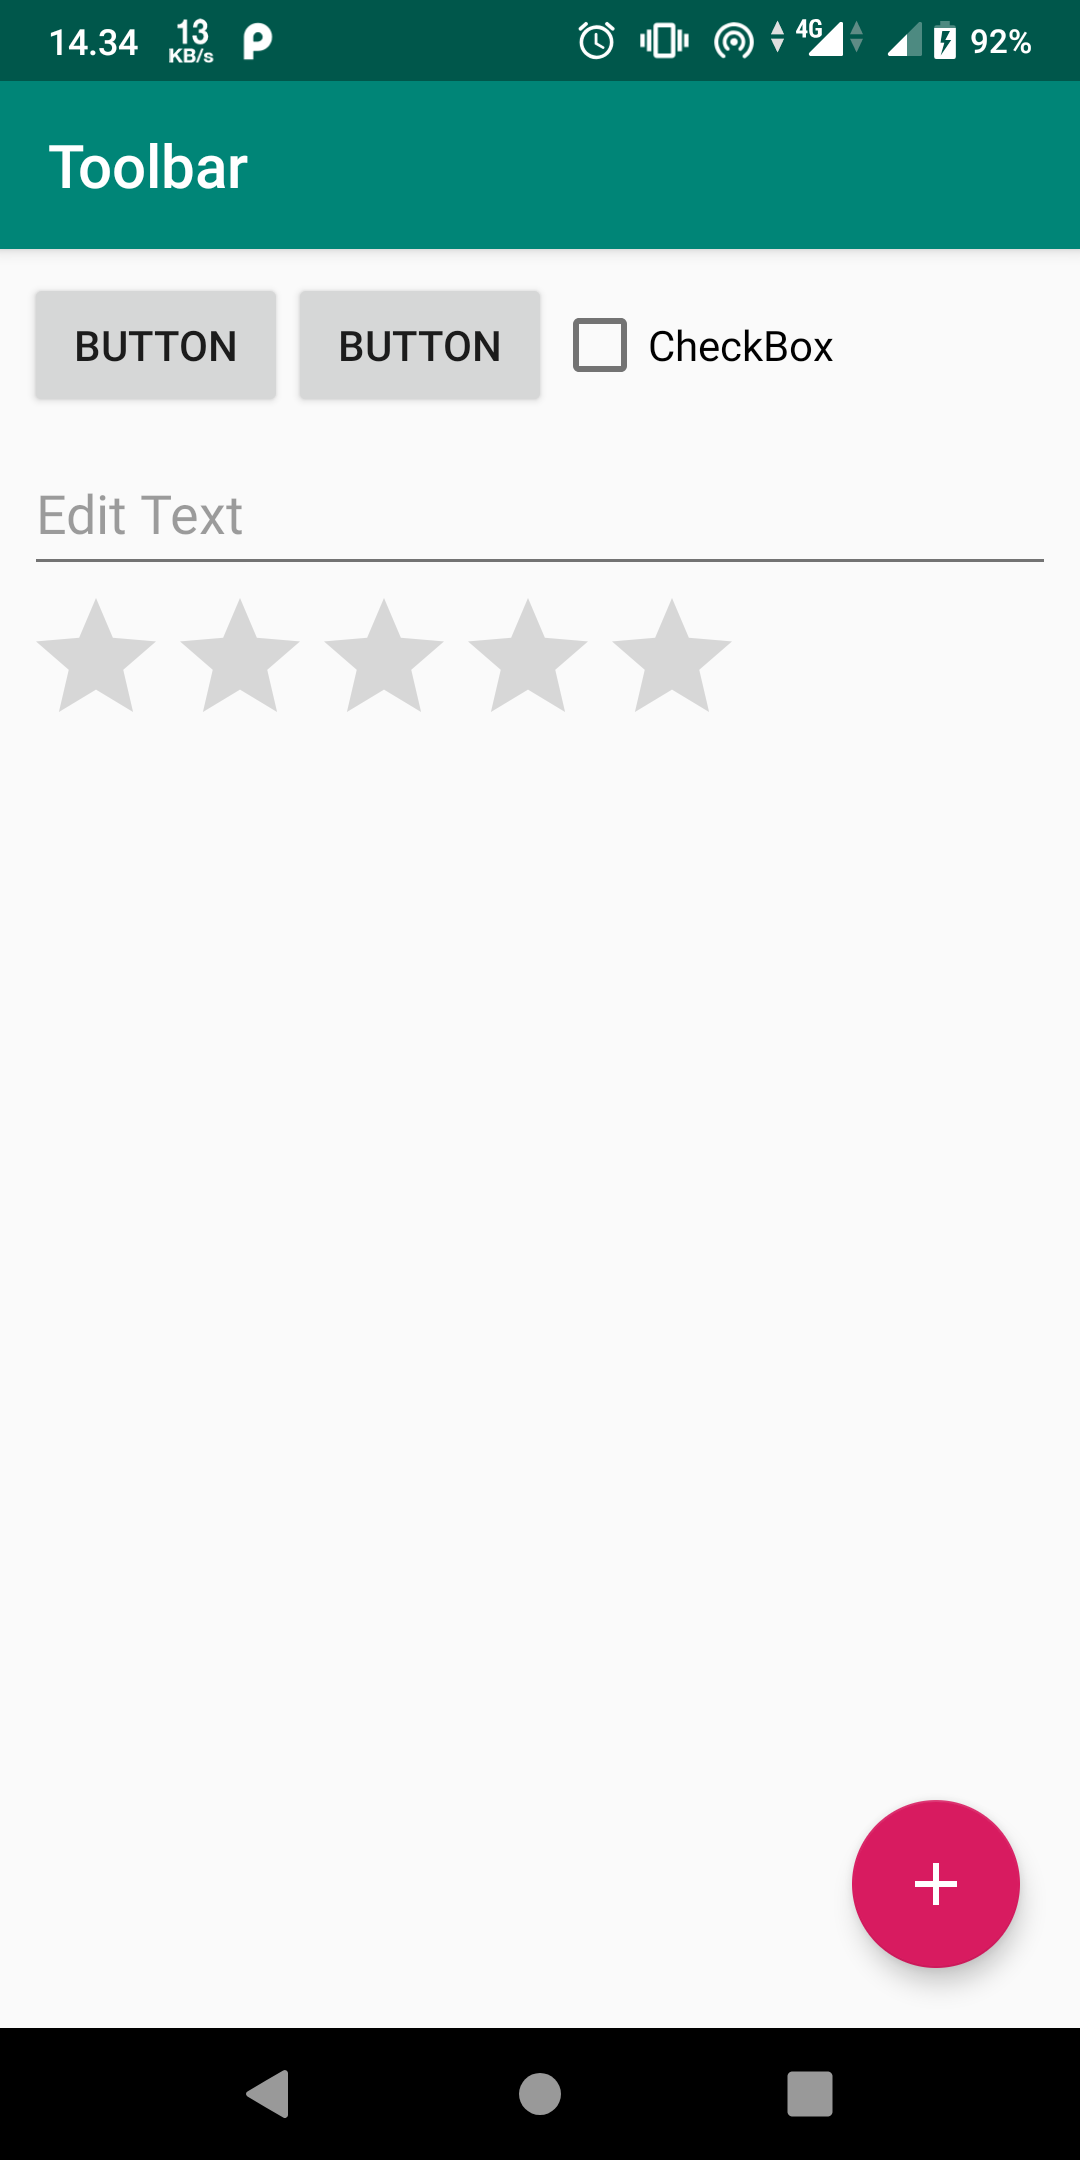button: (26, 282, 281, 406), (293, 282, 550, 402)
checkBox: (565, 311, 843, 386)
editText: (30, 484, 1055, 583)
floatingButton: (843, 1783, 1030, 1980)
ratingBar: (30, 592, 733, 719)
toolbar: (1, 80, 1080, 244)
